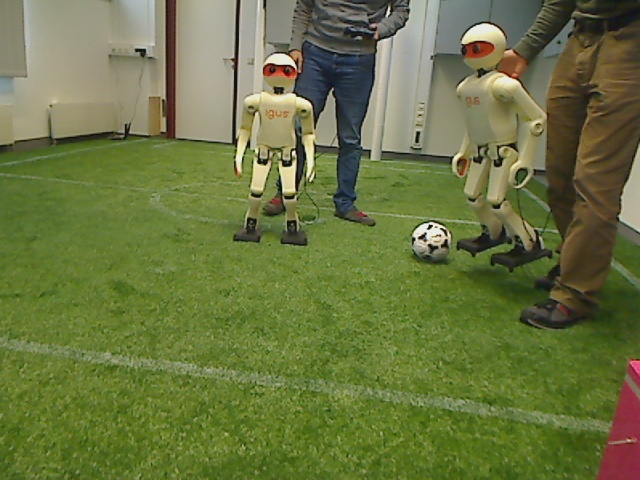ball: (407, 219, 458, 267)
robot: (452, 19, 556, 273), (233, 53, 320, 246)
